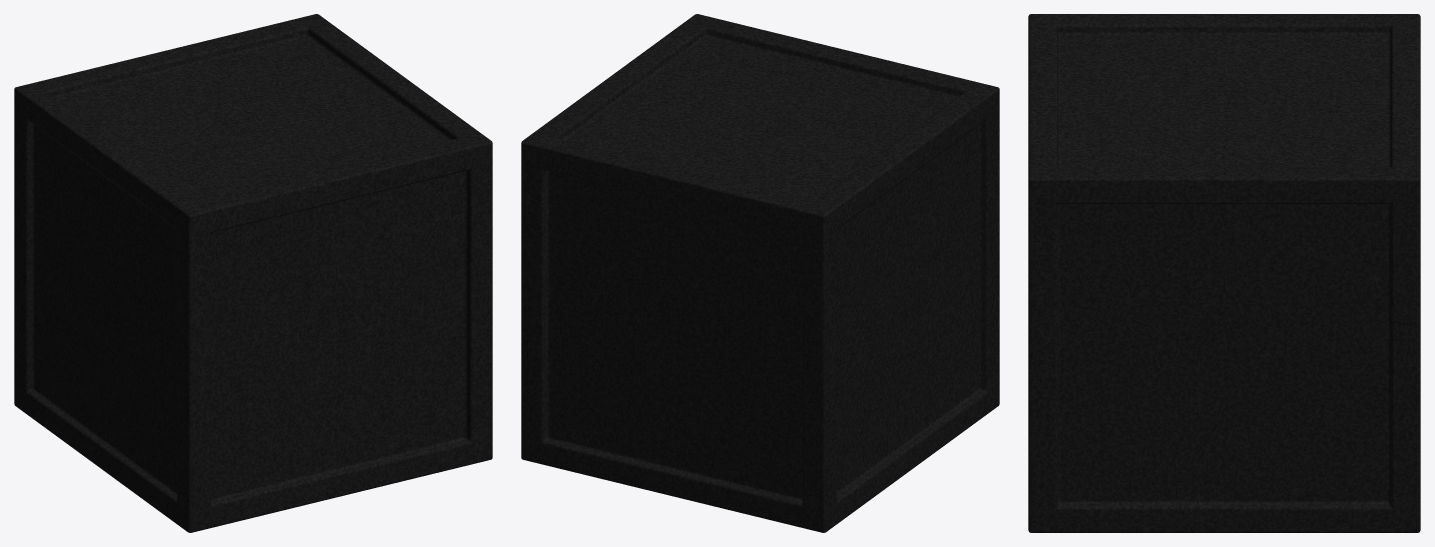
Rendered from Illusionsblock.fbx.
3 renders of one model, left to right at view 1: azimuth 30°, elevation 25°; view 2: azimuth 150°, elevation 25°; view 3: azimuth 270°, elevation 25°, orthographic. The views are drawn at different scales.
Parts seen in each view (by area): view 1: Cube; view 2: Cube; view 3: Cube.
Boxes of the visible parts, bbox=[...] form: Cube: bbox=[14, 14, 492, 532]; Cube: bbox=[521, 14, 999, 532]; Cube: bbox=[1028, 14, 1420, 532].
Size of the model in its own units: 1 by 1 by 1.
